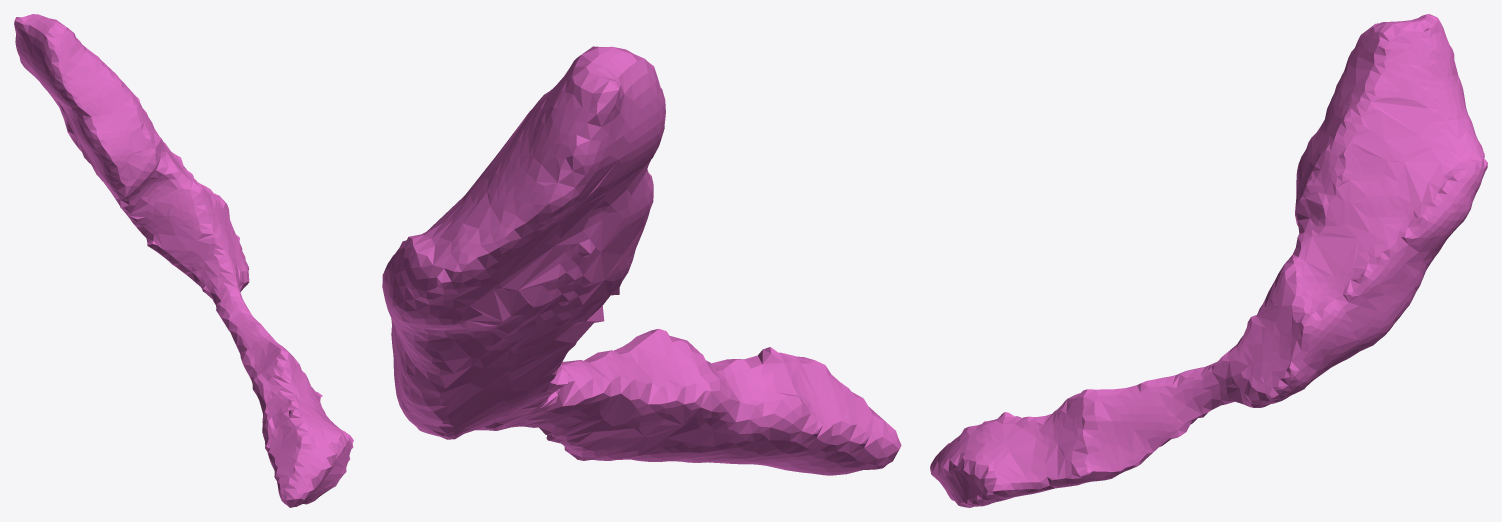
Rendered from Model_95_RH__Insular_proisocortex_(IPro).obj.
3 renders of one model, left to right at view 1: azimuth 30°, elevation 25°; view 2: azimuth 150°, elevation 25°; view 3: azimuth 270°, elevation 25°, orthographic. The views are drawn at different scales.
Bounding box in the file's own units: 2.32 × 4.83 × 5.63.
